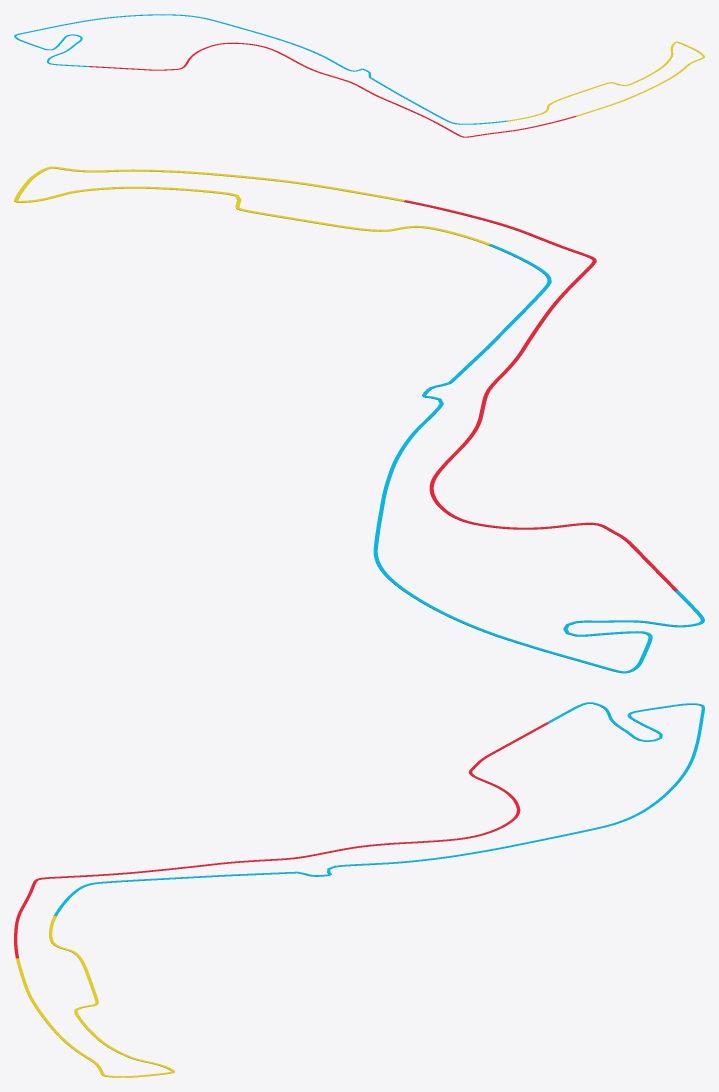
The model's file is MonacoSectors.glb.
3 views of the same model, one above another, from view 1: azimuth 30°, elevation 25°; view 2: azimuth 150°, elevation 25°; view 3: azimuth 270°, elevation 25° (orthographic). The views are drawn at different scales.
Visible parts, largest first — view 1: SectorStrip_2, SectorStrip_1, SectorStrip_3; view 2: SectorStrip_2, SectorStrip_1, SectorStrip_3; view 3: SectorStrip_2, SectorStrip_1, SectorStrip_3.
Boxes of the visible parts, x1,y1,x2,y2 form: SectorStrip_2: [14, 14, 507, 124]; SectorStrip_1: [89, 42, 576, 137]; SectorStrip_3: [507, 41, 704, 121]; SectorStrip_2: [373, 244, 704, 673]; SectorStrip_1: [404, 200, 677, 590]; SectorStrip_3: [14, 166, 490, 245]; SectorStrip_2: [53, 702, 704, 916]; SectorStrip_1: [14, 722, 548, 958]; SectorStrip_3: [16, 916, 174, 1077].
Bounding box in the file's own units: 15.92 × 0.006 × 12.39.
